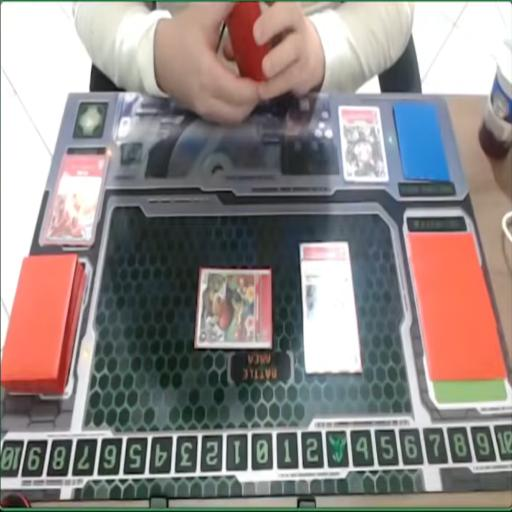card: (193, 265, 274, 352), (40, 153, 110, 250), (301, 258, 356, 377), (339, 105, 388, 182), (298, 238, 350, 267)
